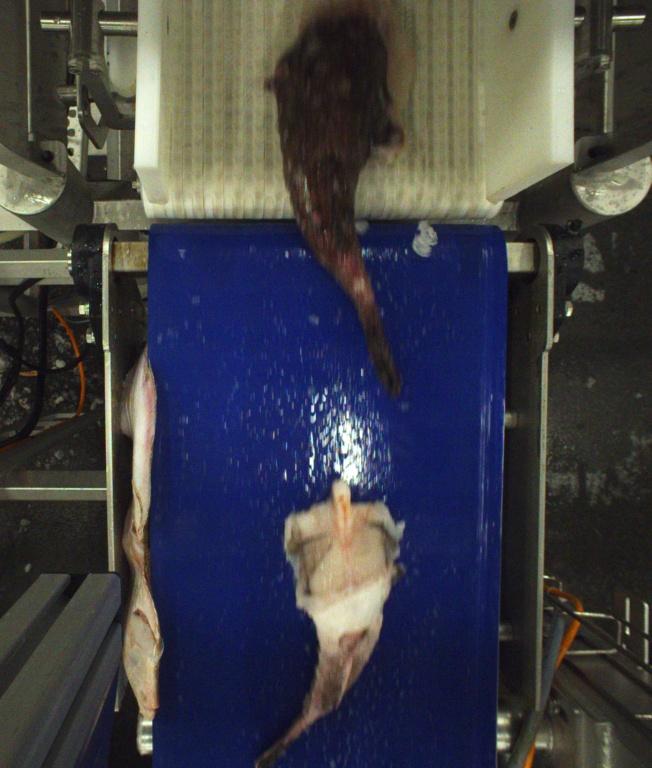ANF: (243, 482, 406, 768)
